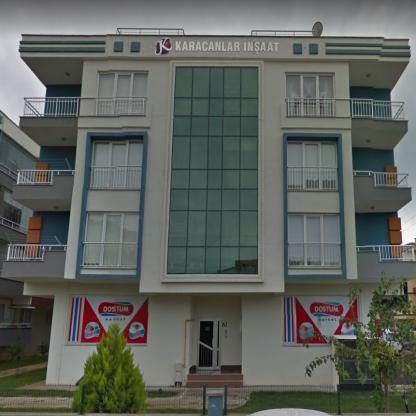door: (197, 318, 221, 374)
window: (166, 67, 259, 276), (83, 212, 138, 268), (288, 212, 342, 268), (90, 139, 142, 189), (288, 138, 338, 190), (96, 71, 148, 115), (286, 73, 334, 116), (1, 134, 35, 178), (1, 186, 32, 233)
